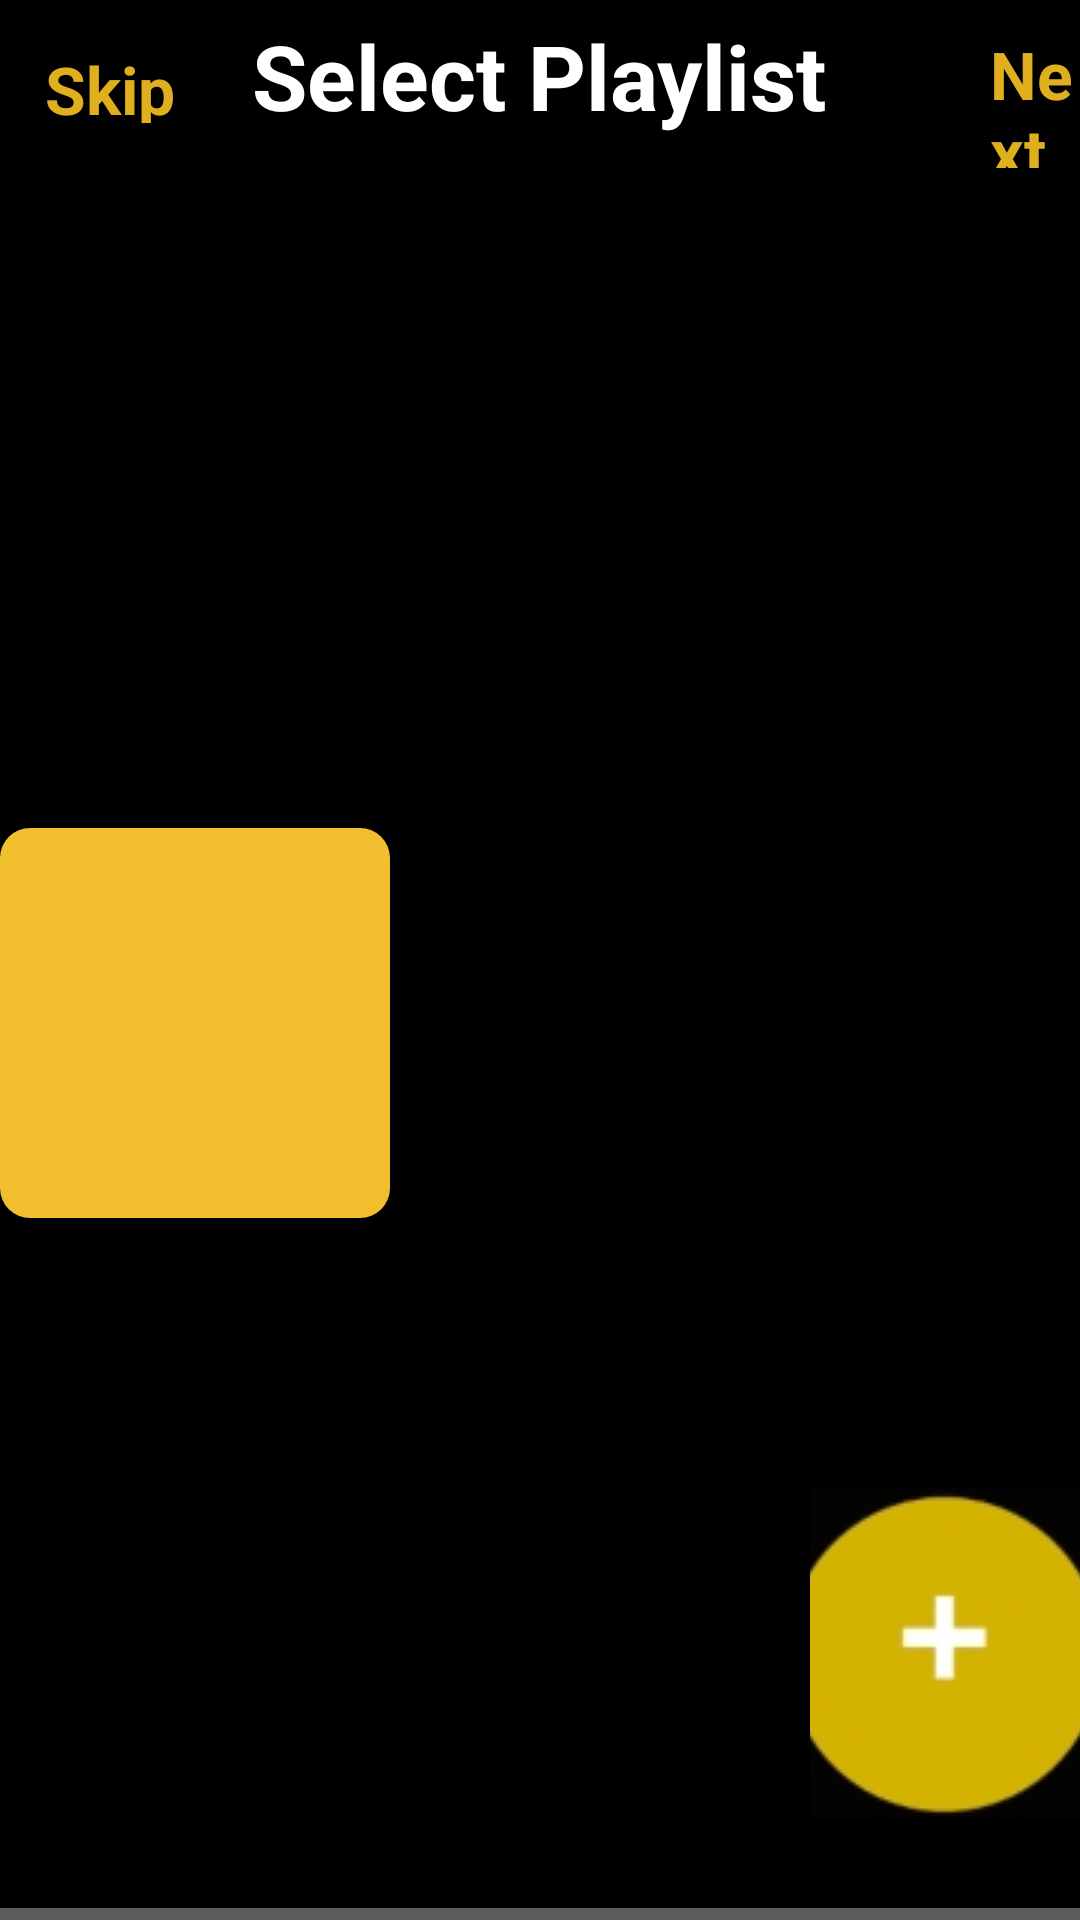

Named icons in this screenshot (1080px×1920px) and their bounding boxes, bbox=(x1, y1, x2, y2):
pluscircle: bbox=(810, 1494, 1080, 1814)
